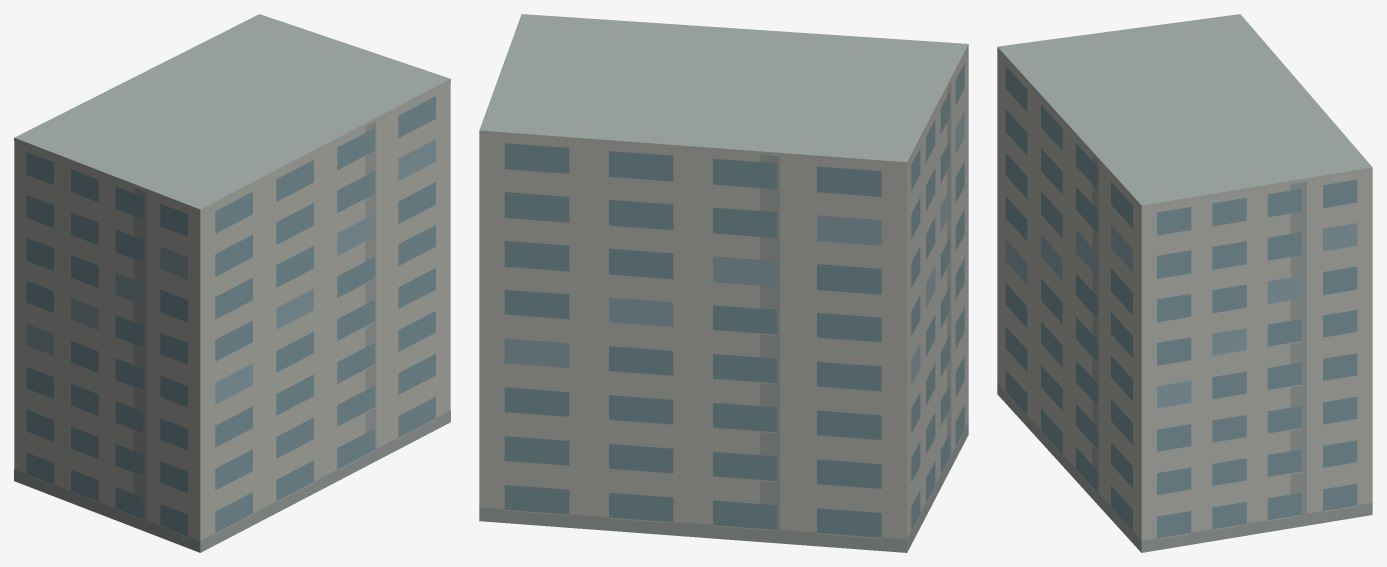
File: residential-ecf16c24-e7bc-4f62-8bef-26240385f9bb.glb
3 views of the same model, side by side, from view 1: azimuth 30°, elevation 25°; view 2: azimuth 150°, elevation 25°; view 3: azimuth 270°, elevation 25° (orthographic). The views are drawn at different scales.
Parts seen in each view (by area): view 1: residential-ecf16c24-e7bc-4f62-8bef-26240385f9bb.tmp; view 2: residential-ecf16c24-e7bc-4f62-8bef-26240385f9bb.tmp; view 3: residential-ecf16c24-e7bc-4f62-8bef-26240385f9bb.tmp.
Part boxes in pixels (left/top/right/bottom): residential-ecf16c24-e7bc-4f62-8bef-26240385f9bb.tmp: left=14, top=14, right=450, bottom=552; residential-ecf16c24-e7bc-4f62-8bef-26240385f9bb.tmp: left=479, top=14, right=968, bottom=552; residential-ecf16c24-e7bc-4f62-8bef-26240385f9bb.tmp: left=997, top=14, right=1372, bottom=552.
Size of the model in its own units: 30.73 by 26 by 25.47.
